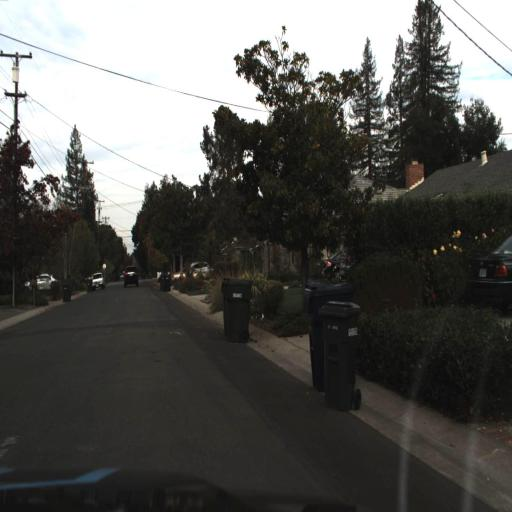car: (315, 244, 358, 287), (20, 262, 66, 293), (168, 266, 205, 297), (320, 247, 340, 276), (89, 265, 109, 293), (189, 253, 213, 276), (122, 264, 140, 289), (92, 270, 107, 290)
